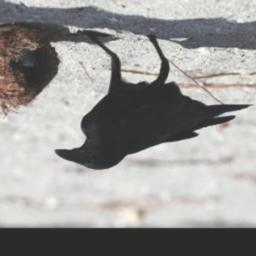Crow: (53, 29, 255, 171)
